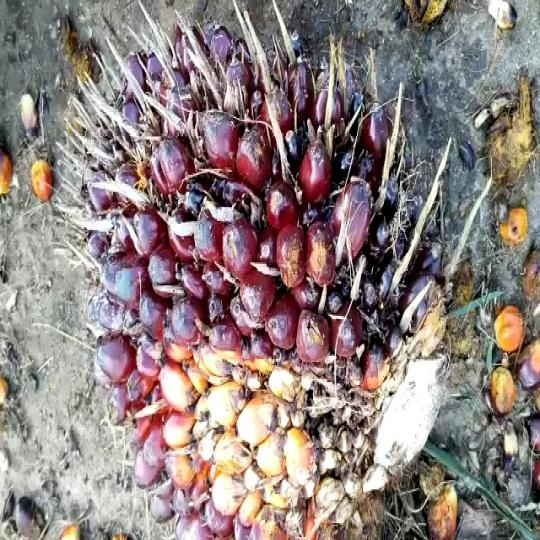kurang masak: (67, 7, 466, 540)
